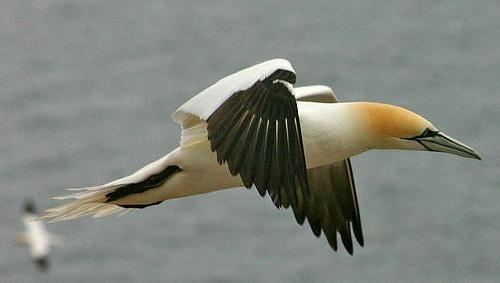bird: (36, 57, 486, 261)
